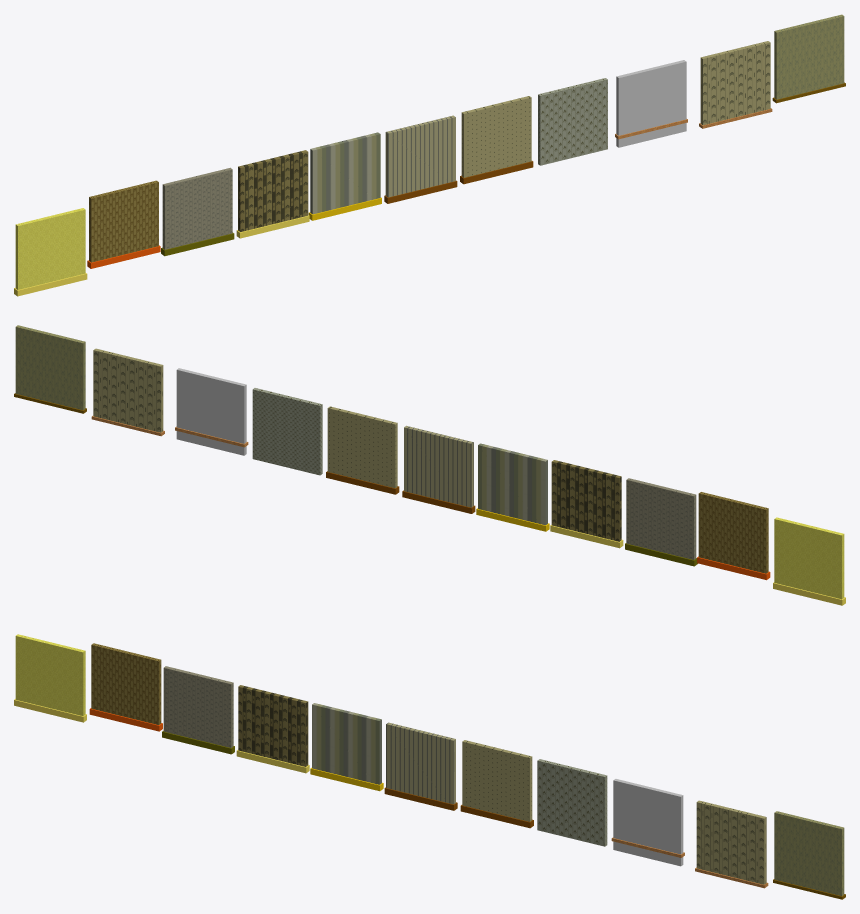
File: backrooms_walls.fbx
The picture shows the model from 3 angles, top to bottom: view 1: azimuth 30°, elevation 25°; view 2: azimuth 150°, elevation 25°; view 3: azimuth 330°, elevation 25°; orthographic projection.
Visible parts, largest first — view 1: Cube.010, Cube.005, Cube.003, Cube.179, Cube.002, Cube.006, Cube.004, Cube.009, Cube.008, Cube.001, Cube.007; view 2: Cube.010, Cube.001, Cube.006, Cube.003, Cube.179, Cube.002, Cube.009, Cube.008, Cube.007, Cube.004, Cube.005; view 3: Cube.010, Cube.001, Cube.006, Cube.003, Cube.179, Cube.002, Cube.009, Cube.008, Cube.007, Cube.004, Cube.005.
Boxes of the visible parts, x1,y1,x2,y2 form: Cube.010: (772, 14, 845, 103); Cube.005: (384, 115, 457, 203); Cube.003: (236, 150, 309, 238); Cube.179: (14, 208, 87, 296); Cube.002: (161, 167, 234, 256); Cube.006: (460, 96, 533, 184); Cube.004: (308, 132, 381, 220); Cube.009: (699, 41, 772, 128); Cube.008: (615, 60, 687, 147); Cube.001: (87, 180, 160, 268); Cube.007: (538, 78, 607, 165); Cube.010: (14, 325, 86, 413); Cube.001: (697, 492, 770, 580); Cube.006: (326, 406, 399, 494); Cube.003: (550, 460, 623, 548); Cube.179: (773, 517, 845, 605); Cube.002: (625, 478, 697, 566); Cube.009: (91, 348, 164, 436); Cube.008: (175, 368, 248, 455); Cube.007: (252, 388, 322, 475); Cube.004: (476, 443, 549, 531); Cube.005: (402, 425, 475, 513); Cube.010: (773, 811, 845, 899); Cube.001: (89, 643, 162, 731); Cube.006: (460, 740, 533, 828); Cube.003: (236, 685, 309, 773); Cube.179: (14, 634, 86, 722); Cube.002: (162, 666, 234, 754); Cube.009: (695, 800, 768, 888); Cube.008: (611, 779, 684, 866); Cube.007: (537, 759, 607, 846); Cube.004: (310, 703, 383, 791); Cube.005: (384, 722, 457, 810).
Size of the model in its own units: 5524 by 497 by 71.31.
